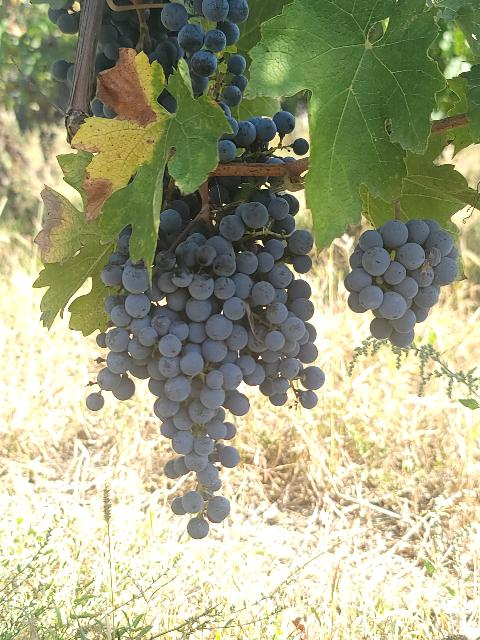grapes: (154, 235, 255, 539), (231, 192, 325, 408), (345, 220, 459, 348), (96, 225, 152, 400)
